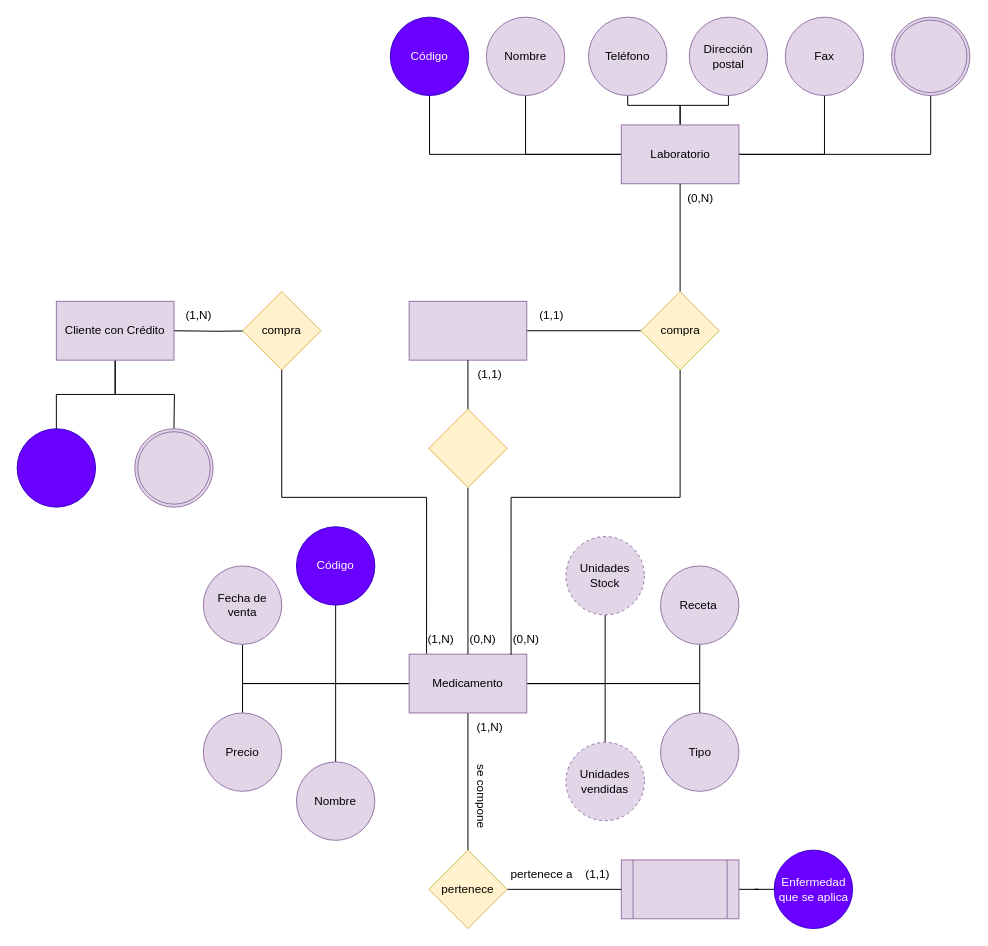
This 988x946 diagram has some shape labels left out. Each missing label, with the centre of its shape:
"Dato Bancario" belongs at pixel 56 467.
"fabrica" belongs at pixel 467 448.
"Familia" belongs at pixel 679 889.
"Farmacia" belongs at pixel 467 330.
"Fecha de pago" belongs at pixel 173 467.
"Persona de Contacto" belongs at pixel 930 56.
